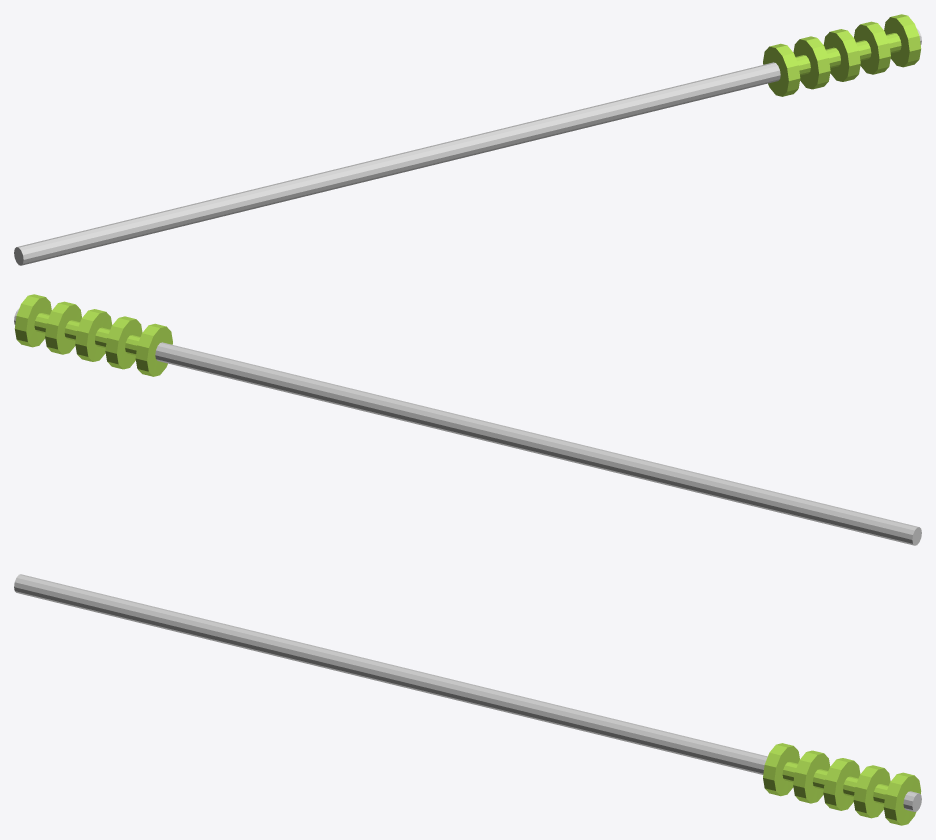
File: Rack gun3.fbx
3 views of the same model, one above another, from view 1: azimuth 30°, elevation 25°; view 2: azimuth 150°, elevation 25°; view 3: azimuth 330°, elevation 25° (orthographic).
Parts seen in each view (by area): view 1: Цилиндр.006; view 2: Цилиндр.006; view 3: Цилиндр.006.
Part boxes in pixels (x1,y1,x2,y2): Цилиндр.006: [14, 14, 921, 265]; Цилиндр.006: [14, 294, 921, 545]; Цилиндр.006: [14, 574, 921, 825].
Bounding box in the file's own units: 455 × 22.85 × 22.85.
